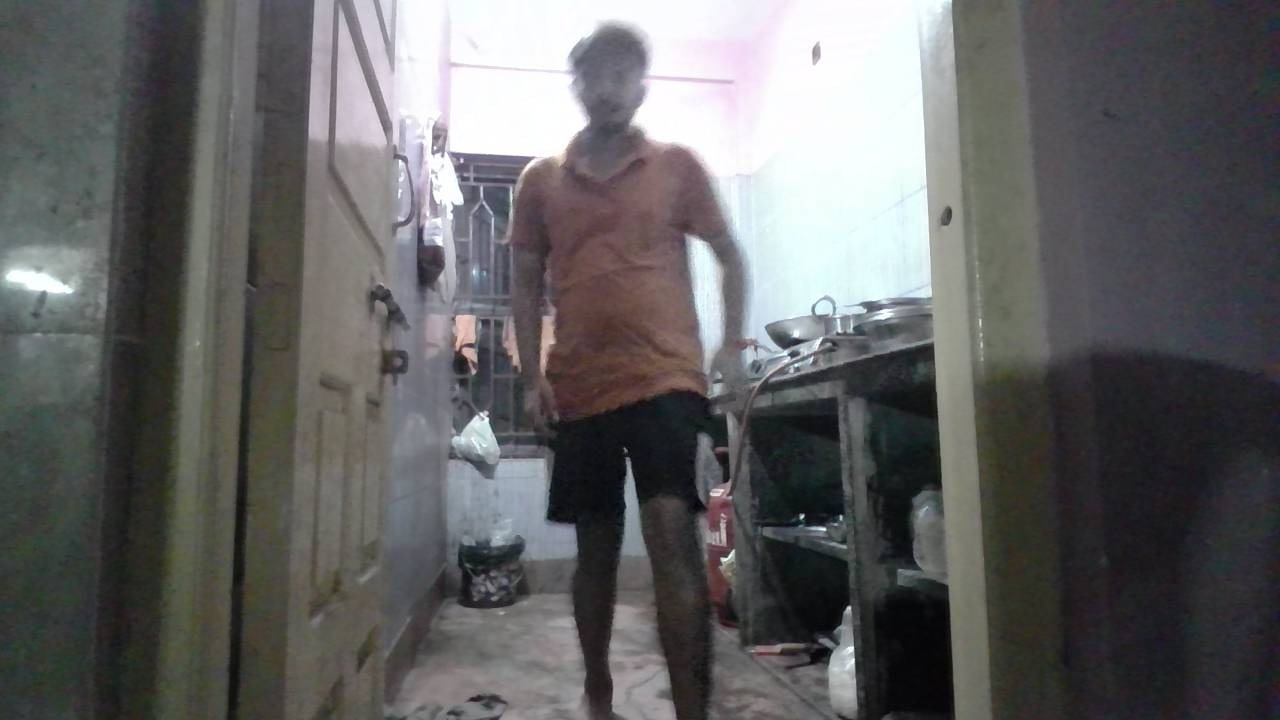red_box: (559, 356, 649, 413)
